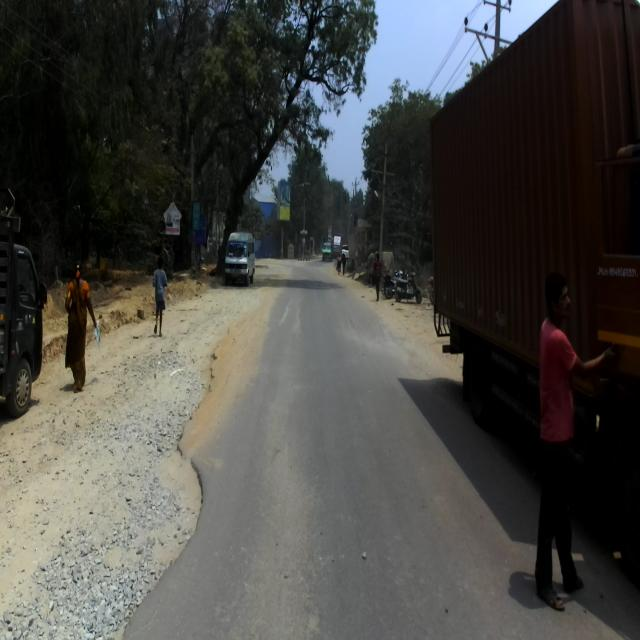person ahead at: (532, 267, 590, 619), (58, 259, 103, 394)
truck ahead at: (427, 0, 640, 553)
